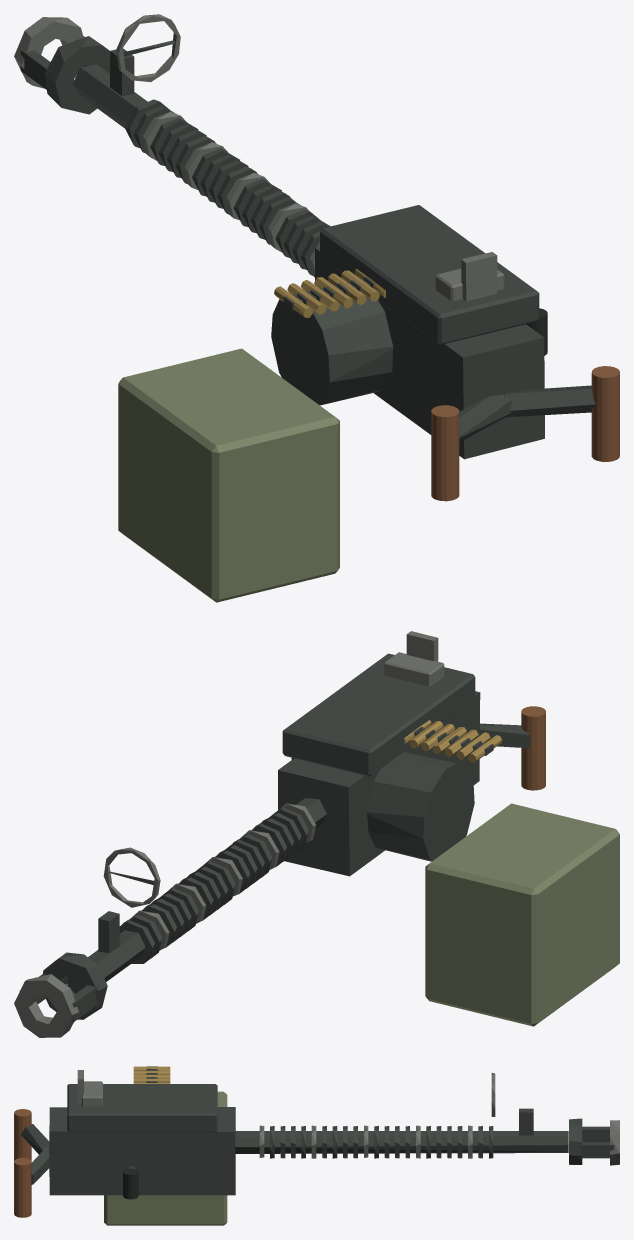
Rendered from dshk-support-lod.glb.
The picture shows the model from 3 angles, top to bottom: view 1: azimuth 30°, elevation 25°; view 2: azimuth 150°, elevation 25°; view 3: azimuth 270°, elevation 25°; orthographic projection. The views are drawn at different scales.
Visible parts, largest first — view 1: DShKBody_olive paint, DShKBody_phosphate steel, MountedFeedCover_phosphate steel, DShKBody_worn edges, MountedSpadeGripLeft_oiled wood, MountedBeltSegment_brass, MountedSpadeGripRight_oiled wood, MountedCoverLatch_worn edges; view 2: DShKBody_olive paint, DShKBody_phosphate steel, MountedFeedCover_phosphate steel, DShKBody_worn edges, MountedBeltSegment_brass, MountedSpadeGripLeft_oiled wood, MountedCoverLatch_worn edges; view 3: DShKBody_phosphate steel, MountedFeedCover_phosphate steel, DShKBody_olive paint, DShKBody_worn edges, MountedSpadeGripRight_oiled wood, MountedSpadeGripLeft_oiled wood, MountedBeltSegment_brass, MountedCoverLatch_worn edges, MountedChargingGrip_black rubber.
Boxes of the visible parts, bbox=[...] form: DShKBody_olive paint: bbox=[118, 348, 339, 602]; DShKBody_phosphate steel: bbox=[20, 36, 595, 459]; MountedFeedCover_phosphate steel: bbox=[320, 205, 539, 344]; DShKBody_worn edges: bbox=[14, 14, 497, 301]; MountedSpadeGripLeft_oiled wood: bbox=[431, 405, 459, 501]; MountedBeltSegment_brass: bbox=[274, 269, 385, 317]; MountedSpadeGripRight_oiled wood: bbox=[591, 366, 619, 461]; MountedCoverLatch_worn edges: bbox=[435, 268, 504, 301]; DShKBody_olive paint: bbox=[425, 803, 619, 1026]; DShKBody_phosphate steel: bbox=[19, 691, 529, 1021]; MountedFeedCover_phosphate steel: bbox=[282, 653, 475, 776]; DShKBody_worn edges: bbox=[14, 631, 438, 1037]; MountedBeltSegment_brass: bbox=[404, 720, 501, 762]; MountedSpadeGripLeft_oiled wood: bbox=[521, 706, 545, 790]; MountedCoverLatch_worn edges: bbox=[384, 652, 444, 686]; DShKBody_phosphate steel: bbox=[21, 1107, 614, 1195]; MountedFeedCover_phosphate steel: bbox=[67, 1084, 217, 1132]; DShKBody_olive paint: bbox=[104, 1091, 227, 1225]; DShKBody_worn edges: bbox=[77, 1070, 619, 1165]; MountedSpadeGripRight_oiled wood: bbox=[14, 1158, 31, 1217]; MountedSpadeGripLeft_oiled wood: bbox=[14, 1109, 31, 1160]; MountedBeltSegment_brass: bbox=[133, 1066, 170, 1083]; MountedCoverLatch_worn edges: bbox=[81, 1081, 102, 1106]; MountedChargingGrip_black rubber: bbox=[123, 1168, 138, 1199].
Bounding box in the file's own units: 0.66 × 0.5392 × 1.57.
